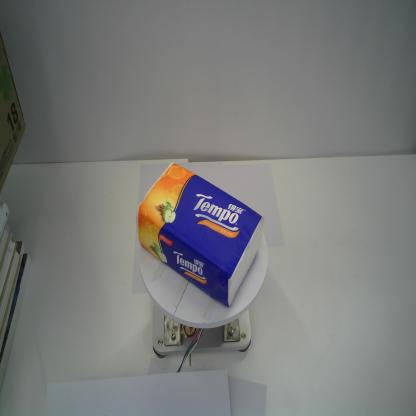Tissue: (132, 160, 264, 310)
